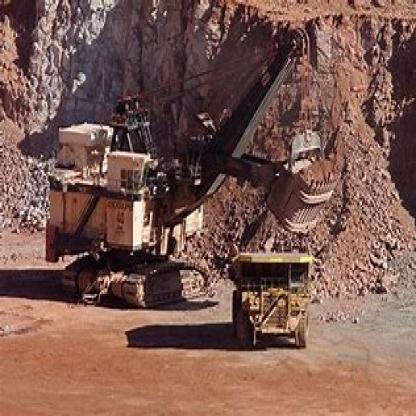dump_truck: (226, 236, 326, 350)
